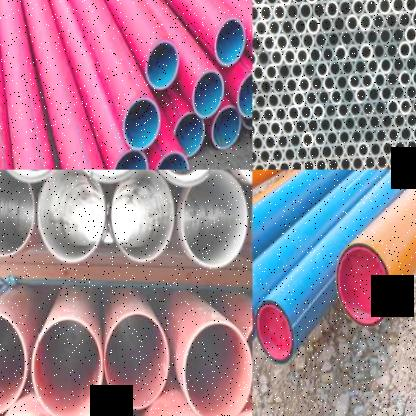pipe: (32, 317, 103, 416), (36, 170, 105, 264), (182, 170, 248, 268), (104, 312, 170, 410), (184, 321, 252, 416), (111, 170, 175, 262), (337, 242, 391, 326), (0, 169, 34, 256), (0, 313, 26, 415), (255, 300, 294, 363), (123, 99, 160, 149), (147, 40, 178, 90), (215, 19, 246, 67), (193, 71, 224, 119), (175, 113, 205, 158), (211, 106, 240, 150), (112, 150, 147, 170), (238, 72, 252, 117), (154, 152, 189, 170), (256, 48, 271, 68), (306, 16, 321, 35), (268, 18, 282, 38), (378, 26, 392, 46), (314, 30, 328, 50), (308, 46, 323, 64), (312, 0, 326, 19), (299, 1, 313, 20), (286, 2, 300, 21), (272, 3, 286, 22), (259, 3, 273, 22), (398, 10, 412, 29), (385, 11, 399, 30), (372, 12, 386, 31), (320, 15, 334, 34), (294, 17, 308, 36), (281, 18, 295, 37), (392, 26, 406, 45), (326, 30, 340, 49), (301, 31, 315, 50), (288, 32, 302, 51), (386, 41, 400, 60), (252, 63, 266, 82), (325, 0, 339, 18), (346, 14, 360, 32), (254, 20, 268, 38), (366, 28, 380, 46), (340, 30, 354, 48), (262, 34, 276, 52), (398, 41, 412, 59), (372, 42, 386, 60), (360, 43, 374, 61), (334, 44, 348, 62), (270, 48, 284, 66), (392, 56, 406, 74), (366, 57, 380, 75), (328, 59, 342, 77), (386, 70, 400, 88), (360, 72, 374, 90), (310, 75, 324, 93), (272, 77, 286, 95), (259, 78, 273, 96), (342, 87, 356, 105), (368, 113, 382, 131), (362, 128, 376, 146), (359, 12, 372, 31), (347, 43, 360, 62), (354, 57, 367, 76), (404, 24, 416, 44), (374, 70, 386, 90), (338, 0, 352, 17), (290, 62, 304, 79), (348, 73, 362, 90), (292, 90, 306, 107), (380, 113, 394, 130), (294, 118, 308, 135), (256, 121, 270, 138), (258, 148, 272, 165), (296, 47, 309, 65), (316, 60, 329, 78), (265, 63, 278, 81), (399, 70, 412, 88), (323, 74, 336, 92), (298, 76, 311, 94), (393, 84, 406, 102), (330, 88, 343, 106), (280, 90, 293, 108), (387, 98, 400, 116), (374, 99, 387, 117), (289, 132, 302, 150), (333, 142, 346, 160), (400, 152, 413, 170), (334, 14, 346, 33), (284, 47, 296, 66), (364, 0, 378, 16), (350, 0, 364, 16), (276, 134, 290, 150), (320, 144, 334, 160), (353, 29, 366, 46), (380, 85, 393, 102), (355, 87, 368, 104), (305, 90, 318, 107), (312, 103, 325, 120), (274, 106, 287, 123), (262, 107, 275, 124), (356, 115, 369, 132), (344, 115, 357, 132), (282, 119, 295, 136), (269, 120, 282, 137), (350, 129, 363, 146), (394, 139, 407, 156), (381, 140, 394, 157), (308, 145, 321, 162), (271, 147, 284, 164), (276, 34, 288, 52), (322, 46, 334, 64), (380, 56, 392, 74), (342, 58, 354, 76), (304, 61, 316, 79), (278, 62, 290, 80), (286, 76, 298, 94), (318, 88, 330, 106), (362, 100, 374, 118), (394, 112, 406, 130), (320, 116, 332, 134), (339, 128, 351, 146), (252, 134, 264, 152), (345, 142, 357, 160), (405, 54, 416, 73), (267, 93, 280, 109), (337, 102, 350, 118), (357, 142, 370, 158), (388, 154, 401, 170), (336, 74, 348, 91), (368, 86, 380, 103), (255, 93, 267, 110), (400, 98, 412, 115), (350, 101, 362, 118), (325, 102, 337, 119), (300, 104, 312, 121), (288, 104, 300, 121), (307, 117, 319, 134), (376, 127, 388, 144), (326, 130, 338, 147), (314, 130, 326, 147), (264, 134, 276, 151), (284, 146, 296, 163), (405, 83, 416, 101), (370, 140, 381, 158), (391, 0, 405, 14), (338, 156, 352, 170), (400, 126, 412, 142), (388, 127, 400, 143), (302, 132, 314, 148), (296, 146, 308, 162), (376, 154, 388, 170), (364, 154, 376, 170), (326, 156, 339, 170), (378, 0, 390, 15), (332, 116, 343, 132), (252, 35, 262, 52), (252, 107, 262, 124), (352, 156, 364, 170), (406, 112, 416, 128), (404, 0, 416, 13), (302, 158, 315, 170), (290, 158, 303, 170), (252, 4, 260, 23), (406, 139, 416, 154), (315, 158, 327, 170), (252, 79, 260, 96), (252, 161, 266, 170), (278, 160, 290, 170), (266, 160, 278, 170), (252, 50, 258, 68), (252, 148, 258, 166), (264, 0, 278, 7), (411, 9, 416, 27), (411, 40, 416, 58), (411, 68, 416, 86), (252, 0, 264, 7), (291, 0, 305, 5), (412, 97, 416, 114), (252, 121, 256, 138), (412, 124, 416, 141), (412, 152, 416, 168), (278, 0, 290, 5), (305, 0, 318, 4), (318, 0, 332, 3), (344, 0, 358, 2)
